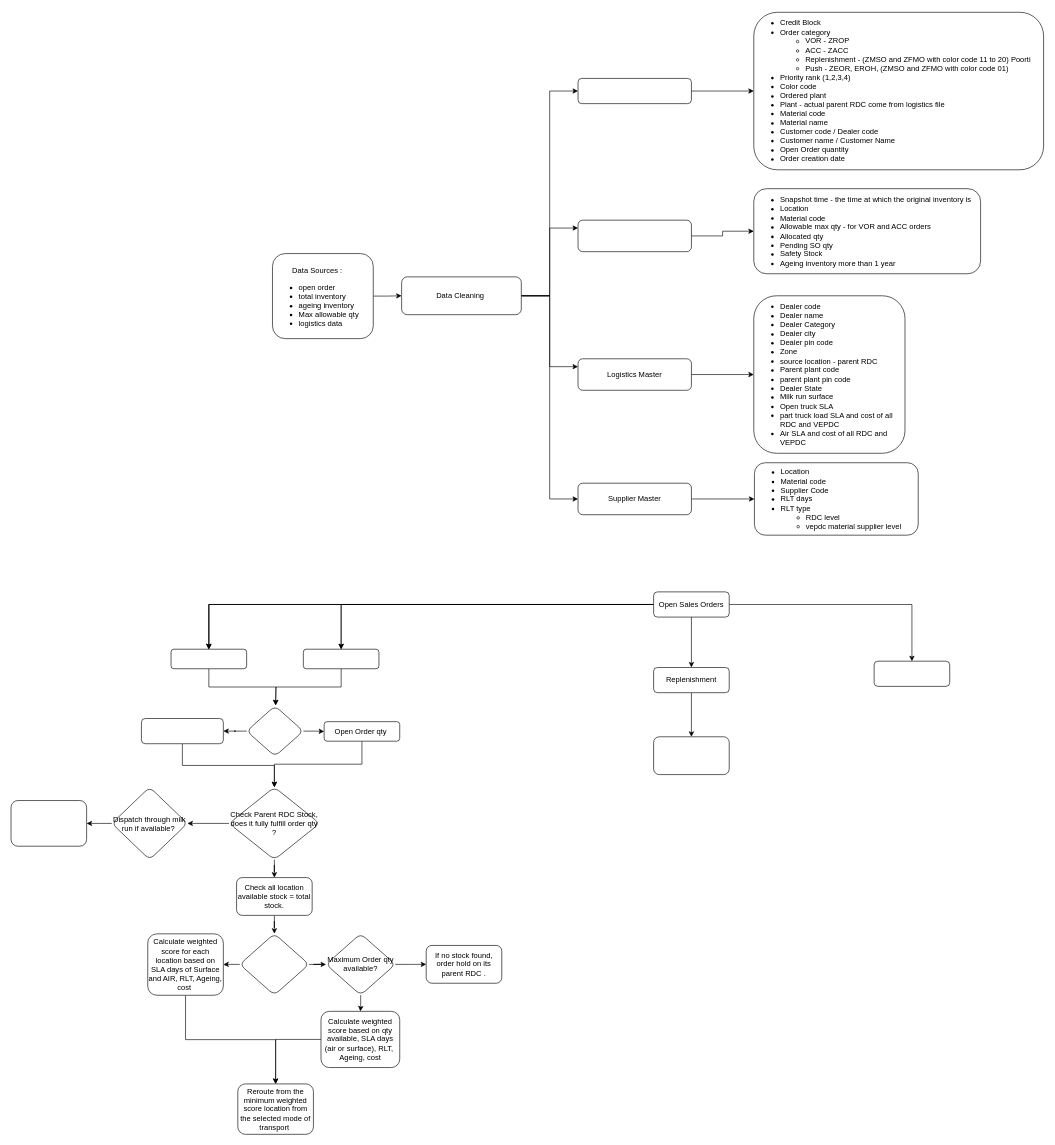
This 1055x1145 diagram has some shape labels left out. The centre of each missing label's shape, as x and y in pixels:
"ACC" goes at (341,659).
"Dispatch through mode which has shorter SLA from Air and PTL" goes at (48,823).
"Full order qty available ?" goes at (274,964).
"Inventory master" goes at (634,236).
"max Allowable qty" goes at (274,730).
"Open order" goes at (634,91).
"Open order qty = max allowable qty" goes at (182,731).
"Push" goes at (911,673).
"VOR" goes at (208,659).
